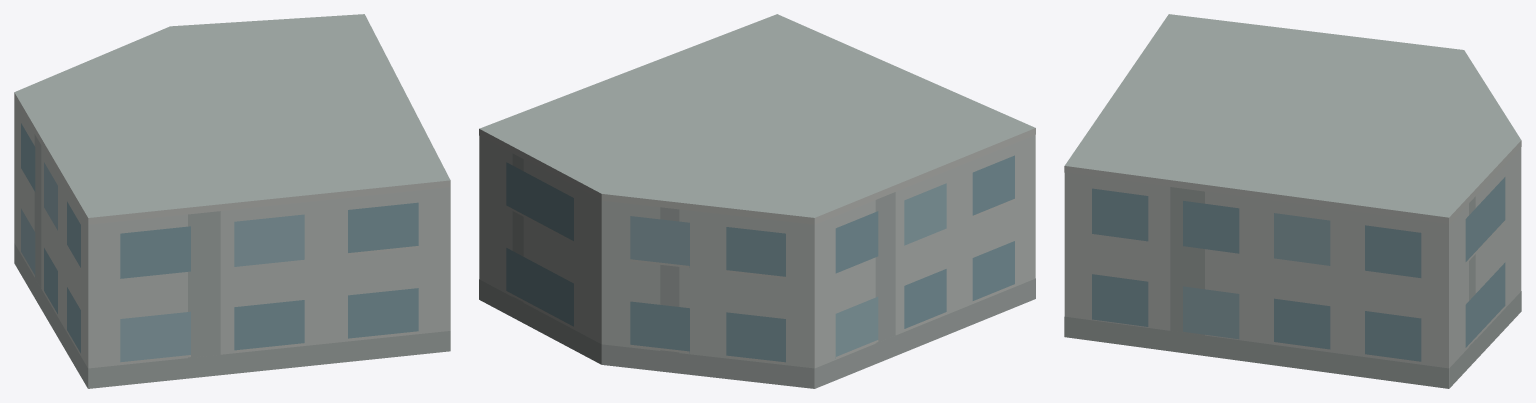
File: survey-upis-32818721.glb
3 views of the same model, side by side, from view 1: azimuth 30°, elevation 25°; view 2: azimuth 150°, elevation 25°; view 3: azimuth 270°, elevation 25° (orthographic).
Parts seen in each view (by area): view 1: survey-upis-32818721.tmp; view 2: survey-upis-32818721.tmp; view 3: survey-upis-32818721.tmp.
Boxes of the visible parts, x1=… form: survey-upis-32818721.tmp: x1=14, y1=14, x2=450, y2=388; survey-upis-32818721.tmp: x1=479, y1=14, x2=1035, y2=388; survey-upis-32818721.tmp: x1=1064, y1=14, x2=1521, y2=388.
Bounding box in the file's own units: 15.57 × 6.1 × 14.76.
